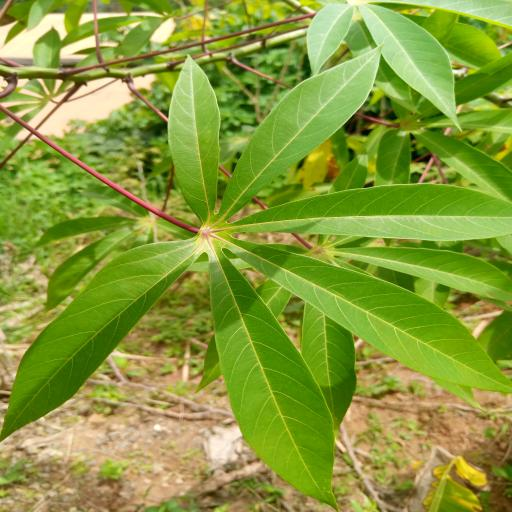Cassava_Healthy: (0, 61, 512, 506)
